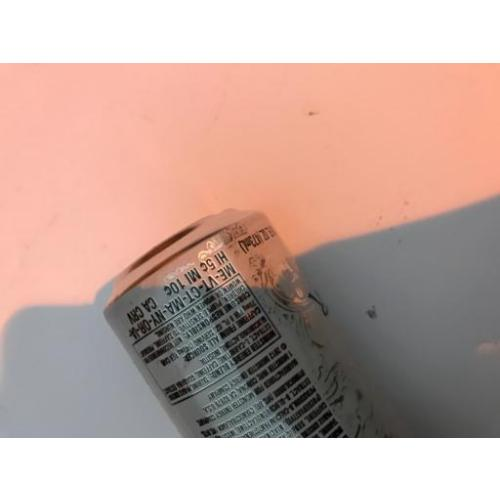metal: (106, 210, 402, 435)
